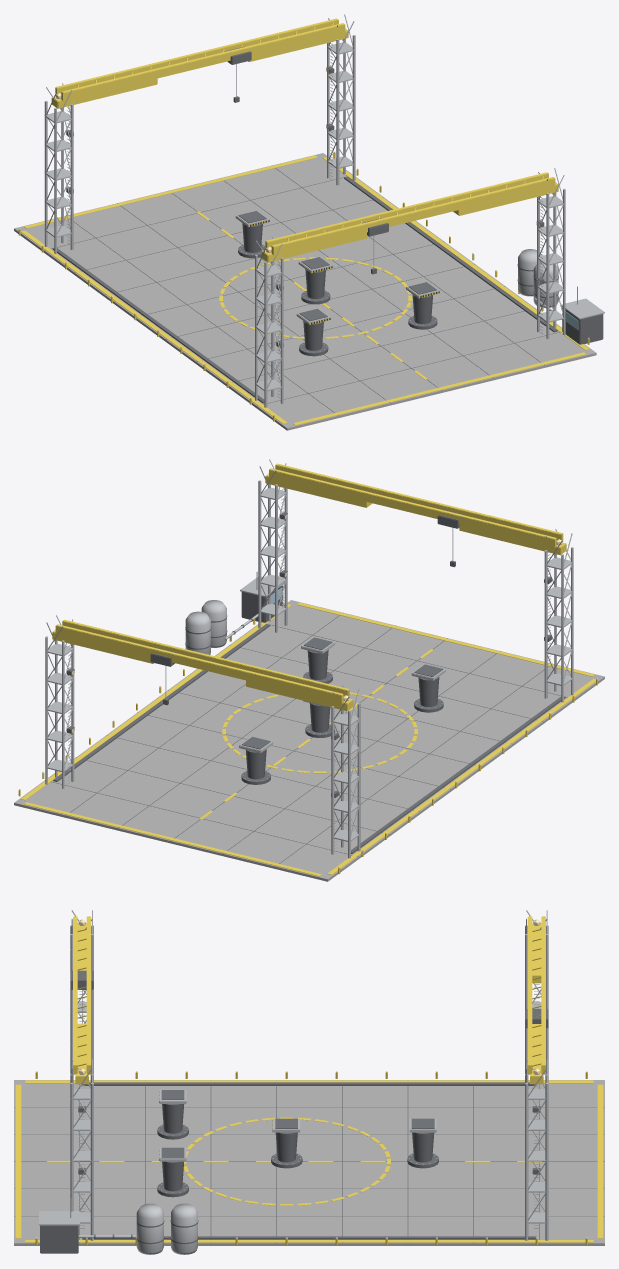
The model's file is shipyard.fbx.
3 views of the same model, one above another, from view 1: azimuth 30°, elevation 25°; view 2: azimuth 150°, elevation 25°; view 3: azimuth 270°, elevation 25° (orthographic). The views are drawn at different scales.
Visible parts, largest first — view 1: shipyard; view 2: shipyard; view 3: shipyard.
Boxes of the visible parts, x1=… form: shipyard: x1=14, y1=14, x2=604, y2=430; shipyard: x1=14, y1=459, x2=604, y2=881; shipyard: x1=14, y1=910, x2=604, y2=1254.
Size of the model in its own units: 37.02 by 17.03 by 52.
